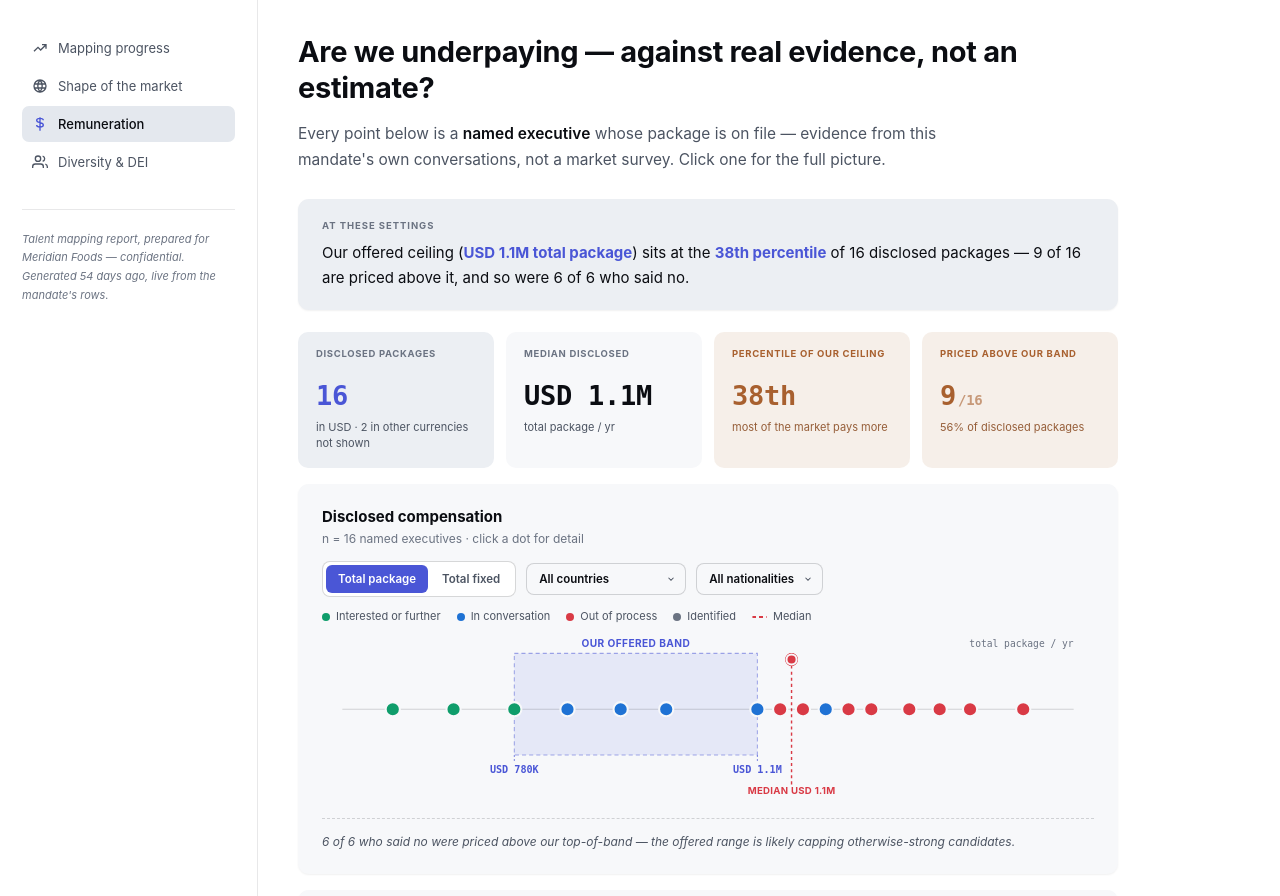
Test: ReportsPage › says so when a filter leaves too few disclosures for a percentile
Expected: the text "38th percentile" is shown, [715,243,826,262]
Select "Kuwait" in the dropdown named "Country" at point(606, 579), box [526,563,686,595]
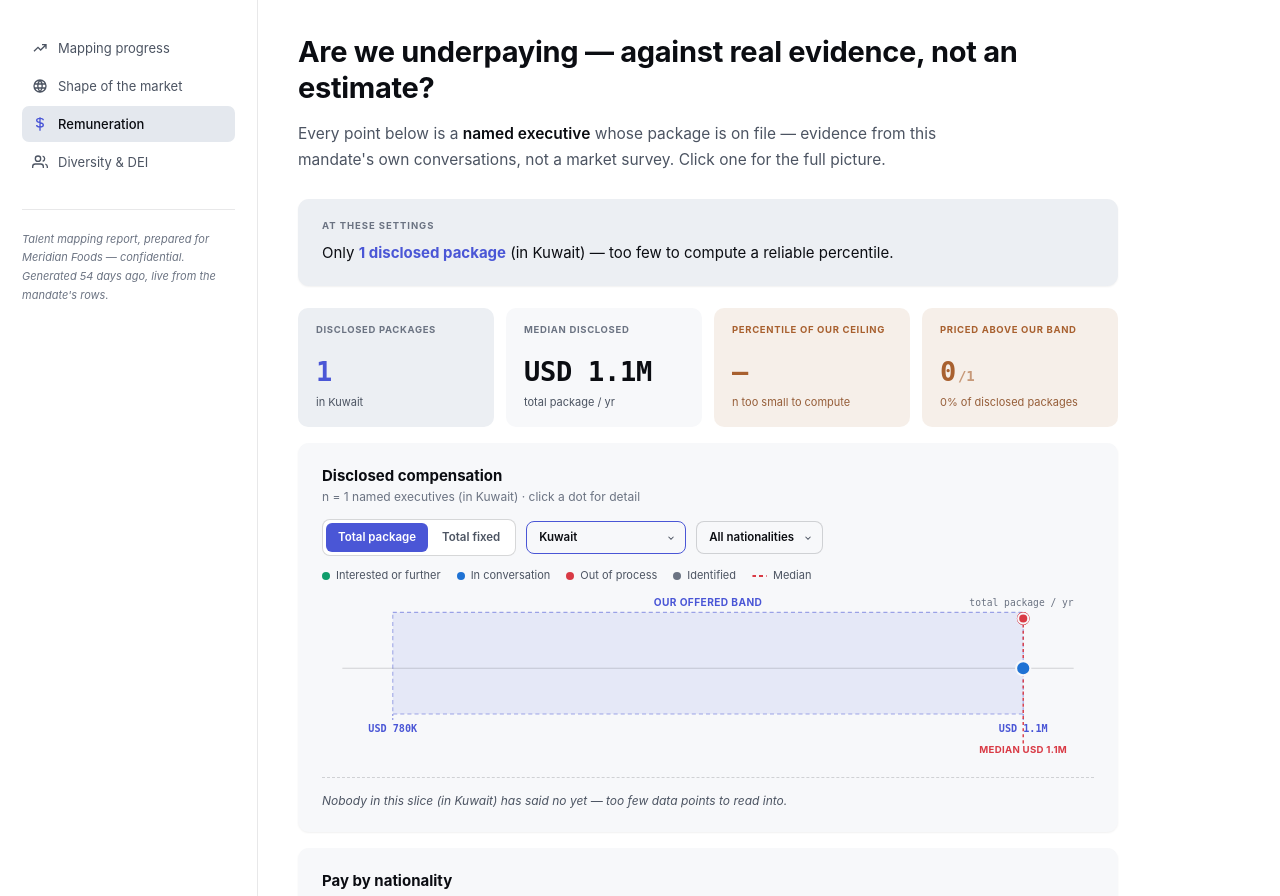
Result: the text "too few to compute a reliable percentile" is shown at [586,243,894,262]
